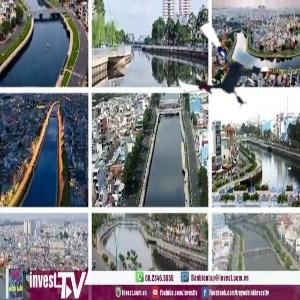drone: (172, 22, 270, 120)
